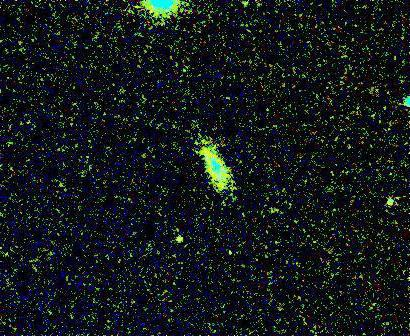star: (164, 224, 194, 254)
